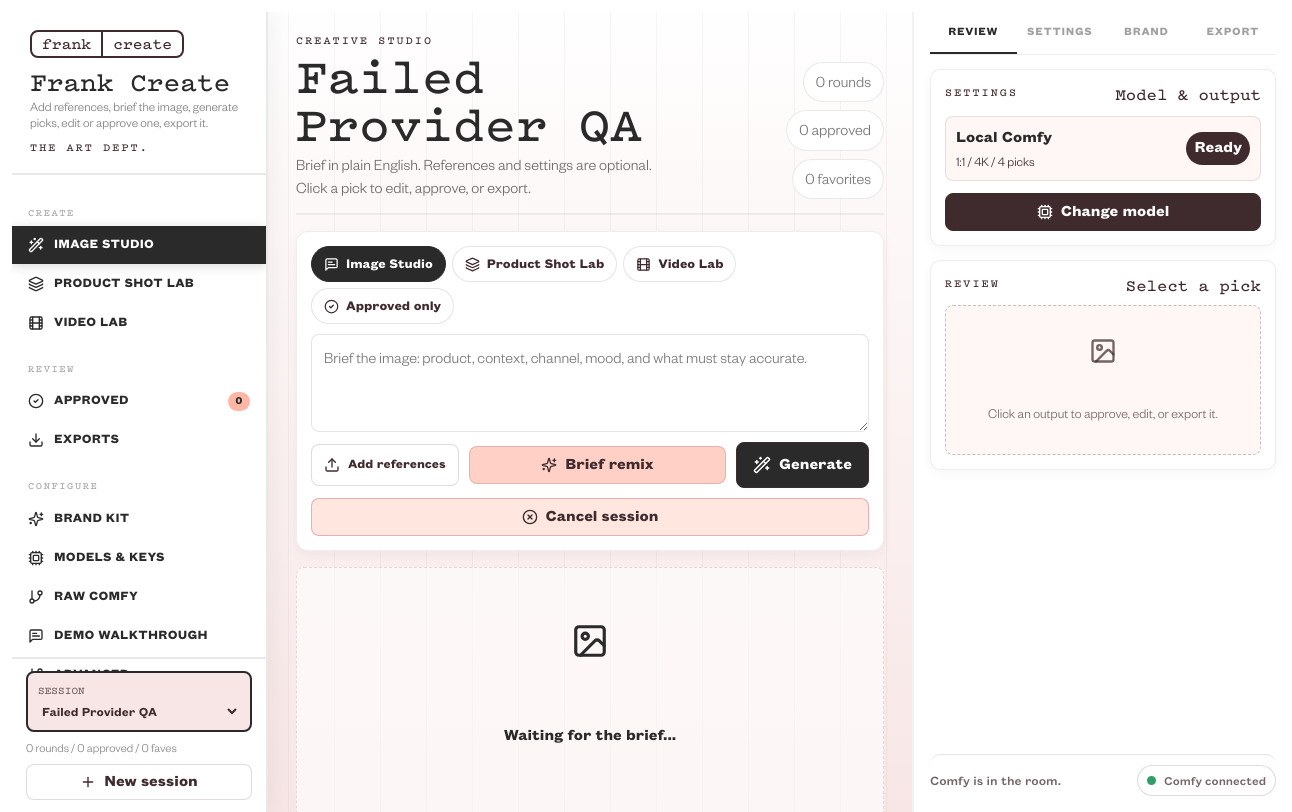
Scenario: App › shows provider error details in the Studio status strip when an image round fails
Expected: the text "Comfy connected" is shown, [1137,764,1276,796]
Replace the text in the text box with placeholder "Brief the image" with "Make a clean PDP image.": (590, 383) [311,334,869,432]
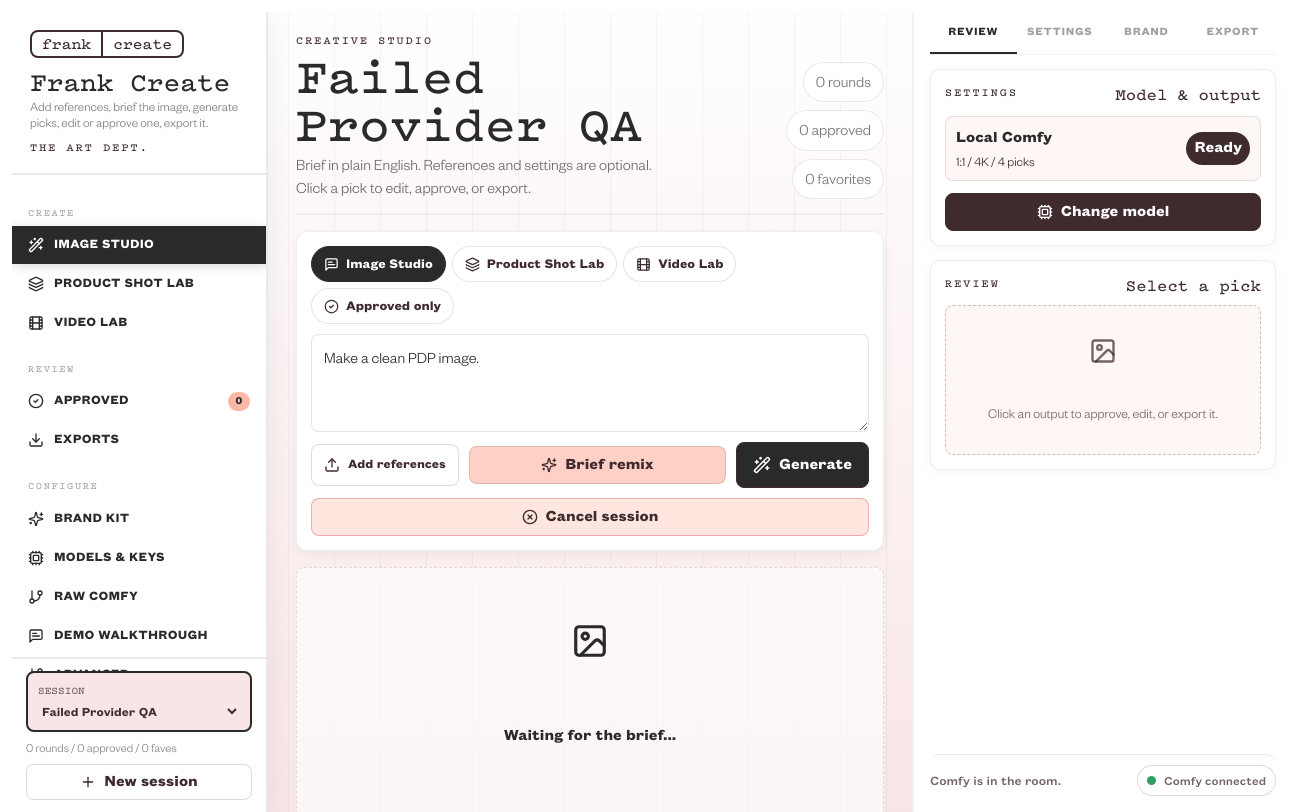
Click the button "Generate": (803, 465) [736,442,869,488]
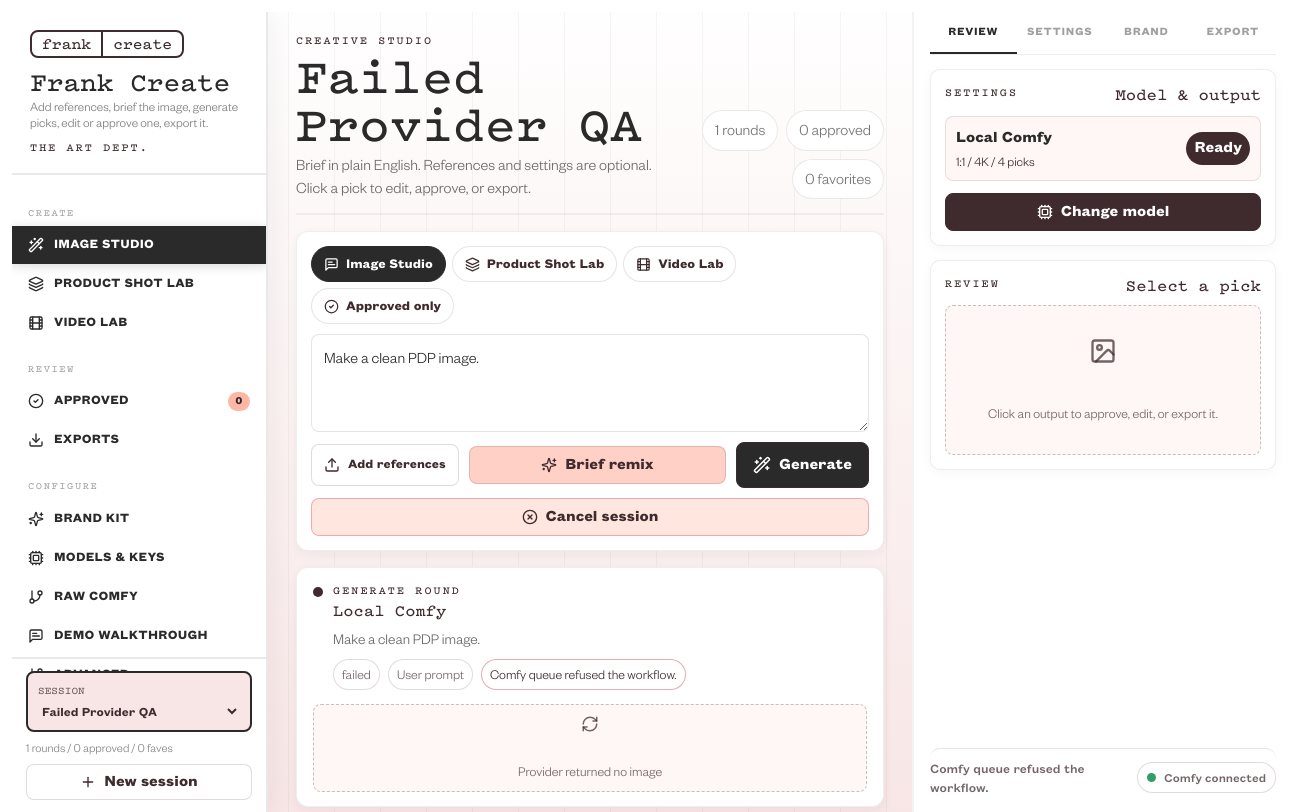
Expected: the element with class "status-strip" is shown, [930,748,1276,796]
Now the text "failed" is shown, box [333,659,380,690]
Now the element with class "status-strip" shows "Comfy queue refused the workflow.", box [930,760,1084,795]
